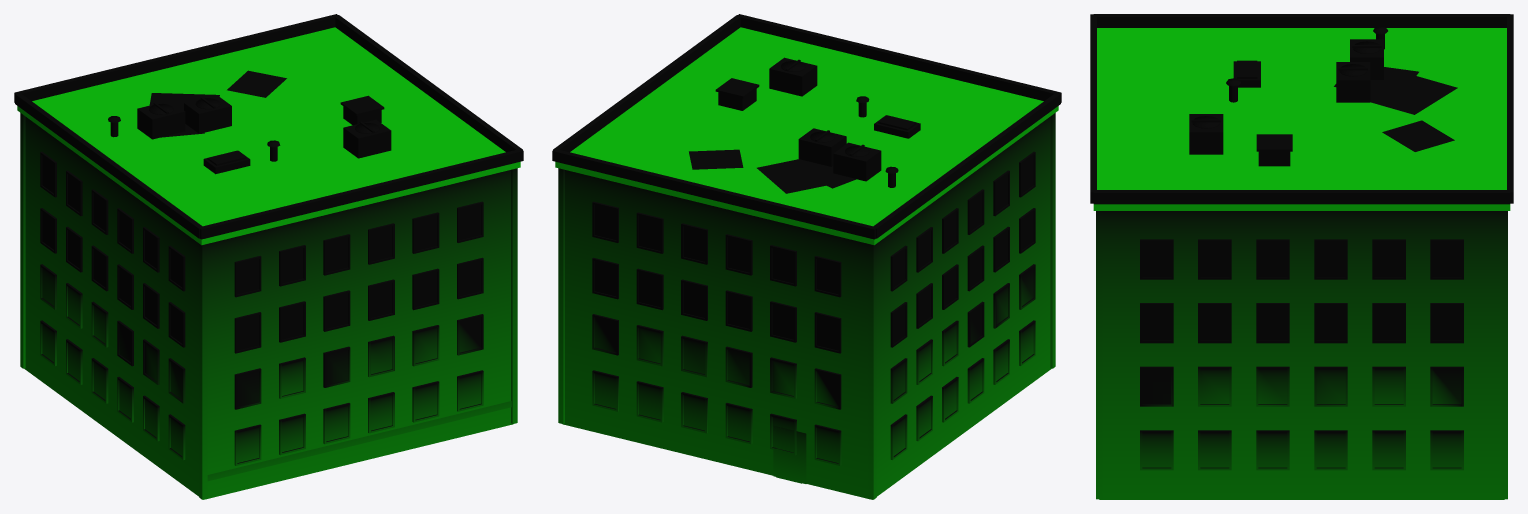
File: city4storya.glb
3 renders of one model, left to right at view 1: azimuth 30°, elevation 25°; view 2: azimuth 150°, elevation 25°; view 3: azimuth 270°, elevation 25°, orthographic. The views are drawn at different scales.
Visible parts, largest first — view 1: lod0; view 2: lod0; view 3: lod0.
Boxes of the visible parts, left/top/right/bottom form: lod0: left=14, top=14, right=523, bottom=499; lod0: left=552, top=14, right=1061, bottom=499; lod0: left=1090, top=14, right=1513, bottom=499.
Size of what is drawn, in the model's own units: 18.7 by 15.84 by 18.7.
